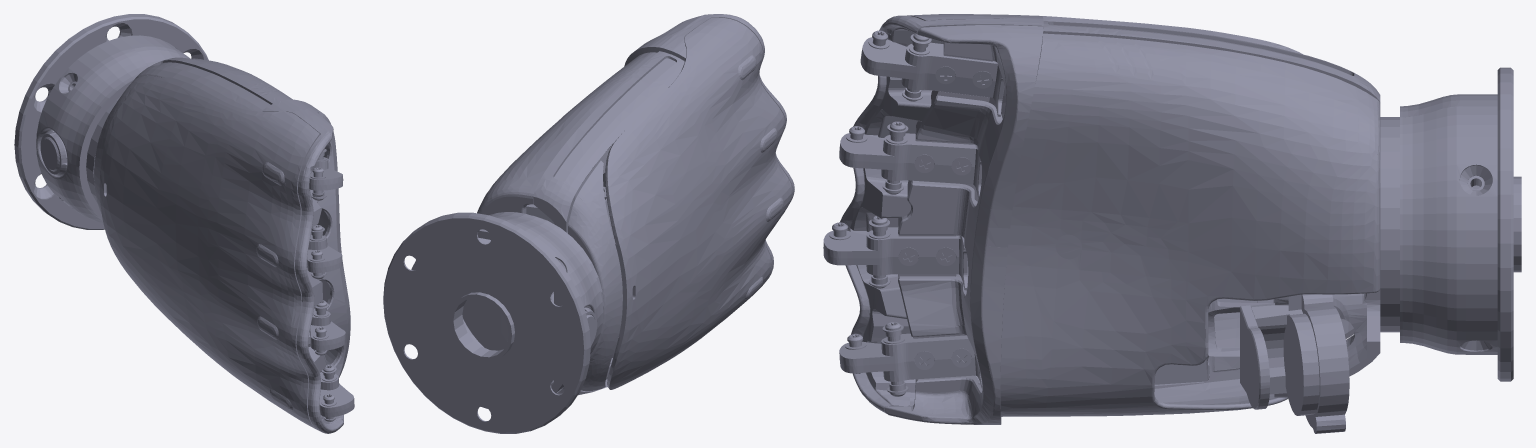
Rendered from hand1_link_base_visuals.obj.
3 views of the same model, side by side, from view 1: azimuth 30°, elevation 25°; view 2: azimuth 150°, elevation 25°; view 3: azimuth 270°, elevation 25° (orthographic). The views are drawn at different scales.
Bounding box in the file's own units: 0.0602 × 0.0819 × 0.1311.
